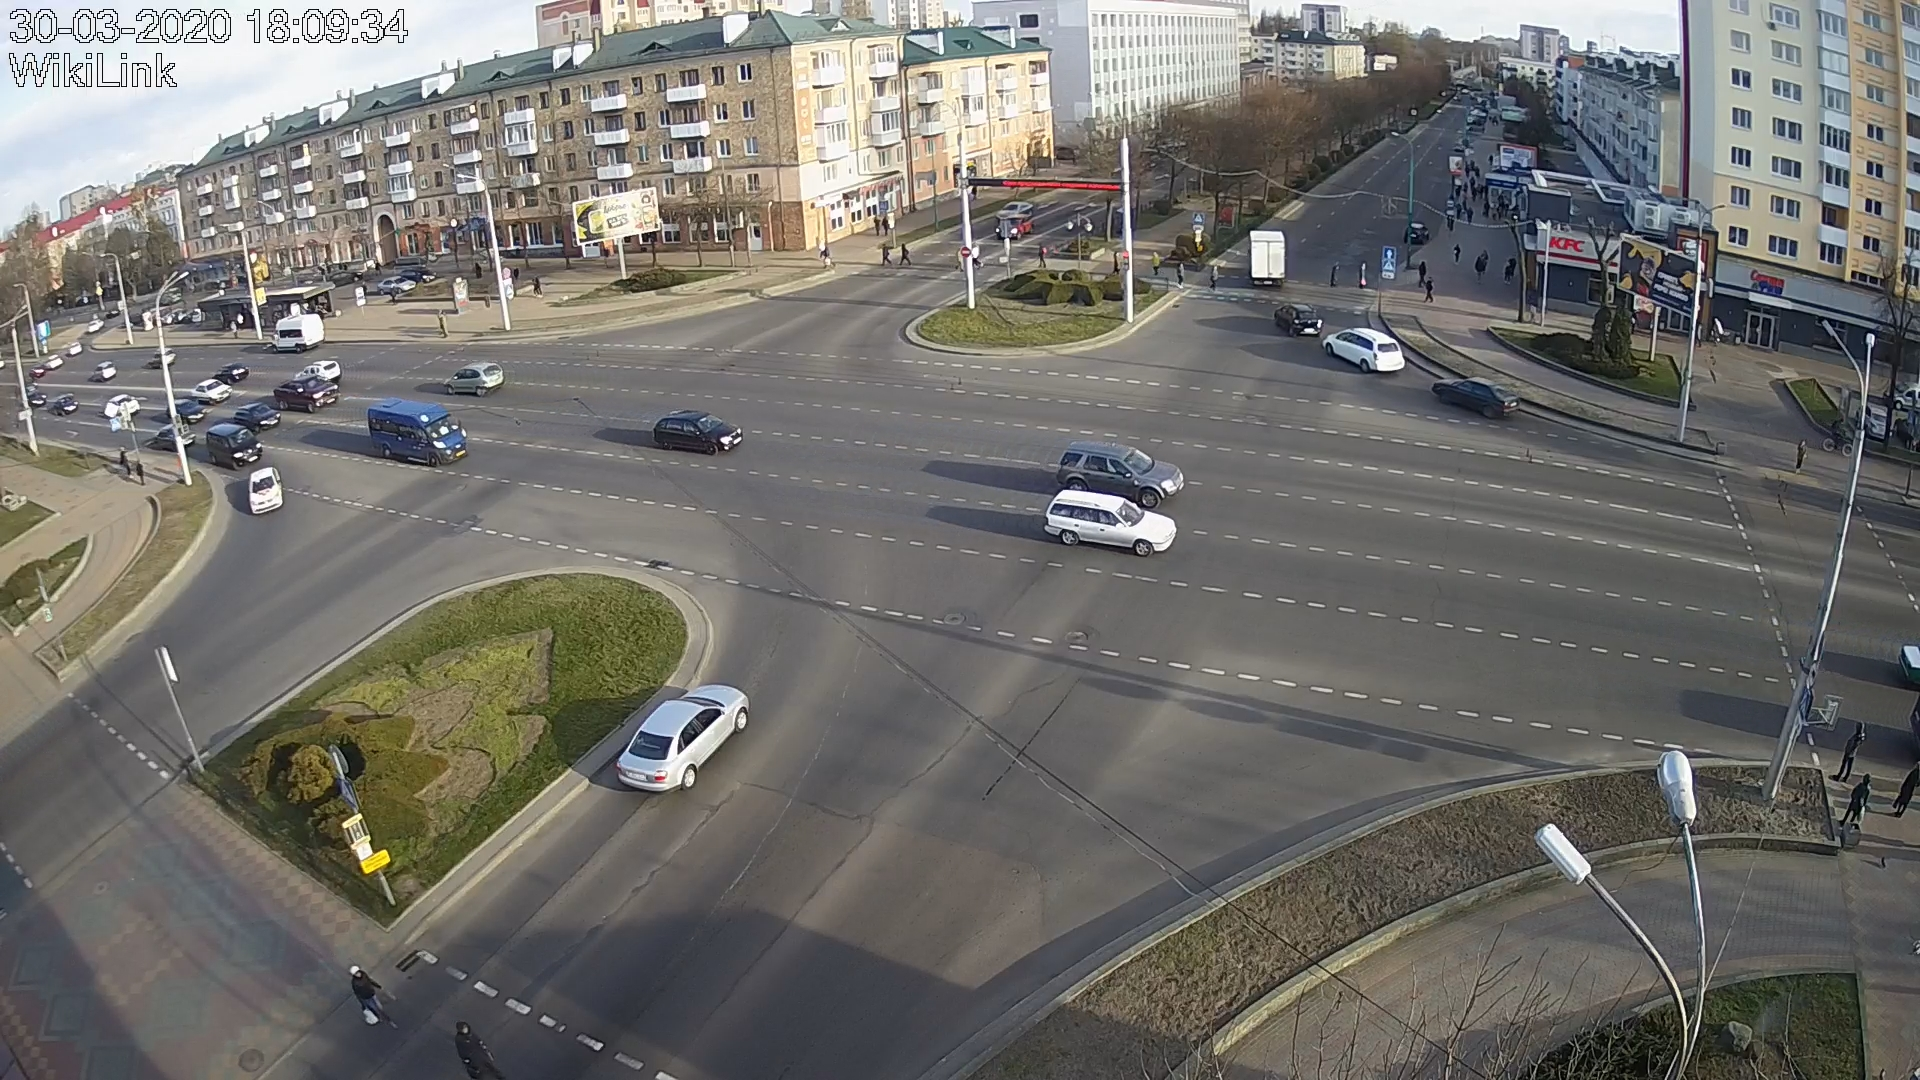car: (616, 683, 752, 794), (1043, 491, 1178, 556), (1058, 440, 1184, 506), (368, 398, 468, 465), (653, 410, 742, 454), (1323, 327, 1404, 375), (1433, 375, 1520, 418), (206, 423, 262, 471), (273, 376, 339, 413), (443, 361, 505, 397), (270, 314, 326, 353), (1247, 229, 1286, 285), (248, 465, 284, 516), (1275, 302, 1323, 338), (233, 402, 280, 433), (295, 359, 342, 382), (156, 422, 195, 450), (189, 378, 232, 404), (994, 216, 1036, 240), (169, 400, 207, 425)
